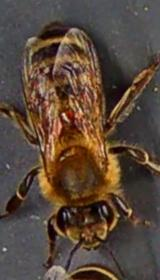varroa_mite: (56, 107, 78, 126)
